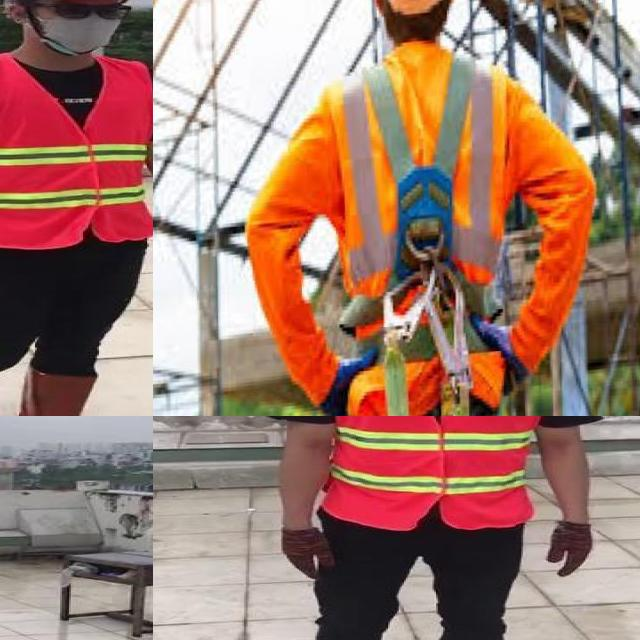Harness: (363, 56, 477, 416)
boots: (17, 365, 127, 416)
face_mask: (36, 0, 132, 56)
glasses: (39, 0, 142, 24)
hand_glove: (276, 525, 336, 579), (544, 522, 594, 579)
person: (273, 416, 607, 640), (0, 0, 153, 416)
vest: (0, 58, 153, 248), (326, 416, 534, 527)
